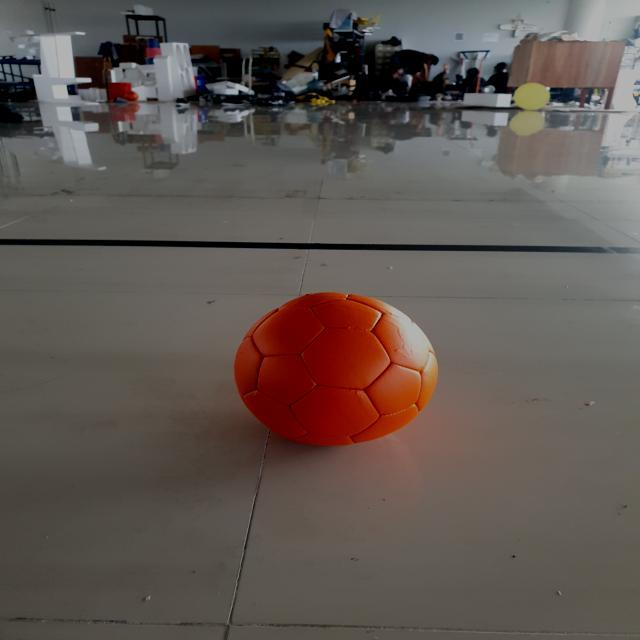bola: (228, 282, 446, 453)
